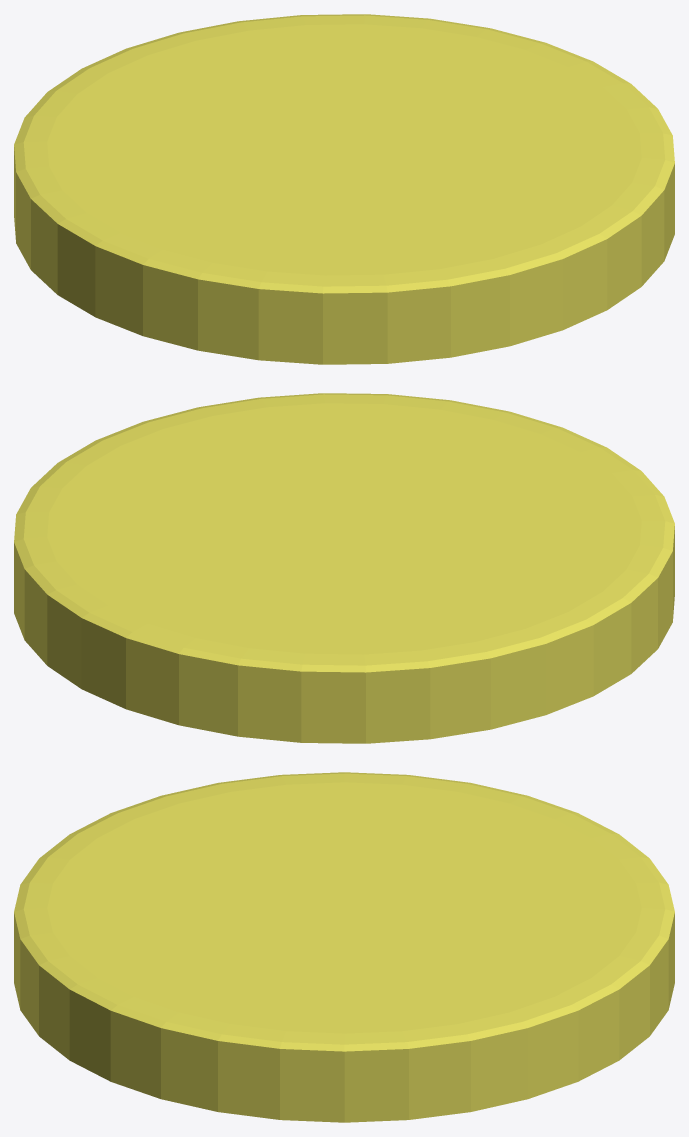
File: coin.fbx
The picture shows the model from 3 angles, top to bottom: view 1: azimuth 30°, elevation 25°; view 2: azimuth 150°, elevation 25°; view 3: azimuth 270°, elevation 25°; orthographic projection.
Parts seen in each view (by area): view 1: 円柱; view 2: 円柱; view 3: 円柱.
Part boxes in pixels (left/top/right/bottom): 円柱: left=14, top=14, right=674, bottom=364; 円柱: left=14, top=393, right=674, bottom=743; 円柱: left=14, top=772, right=674, bottom=1122.
Bounding box in the file's own units: 2 × 0.264 × 2.
